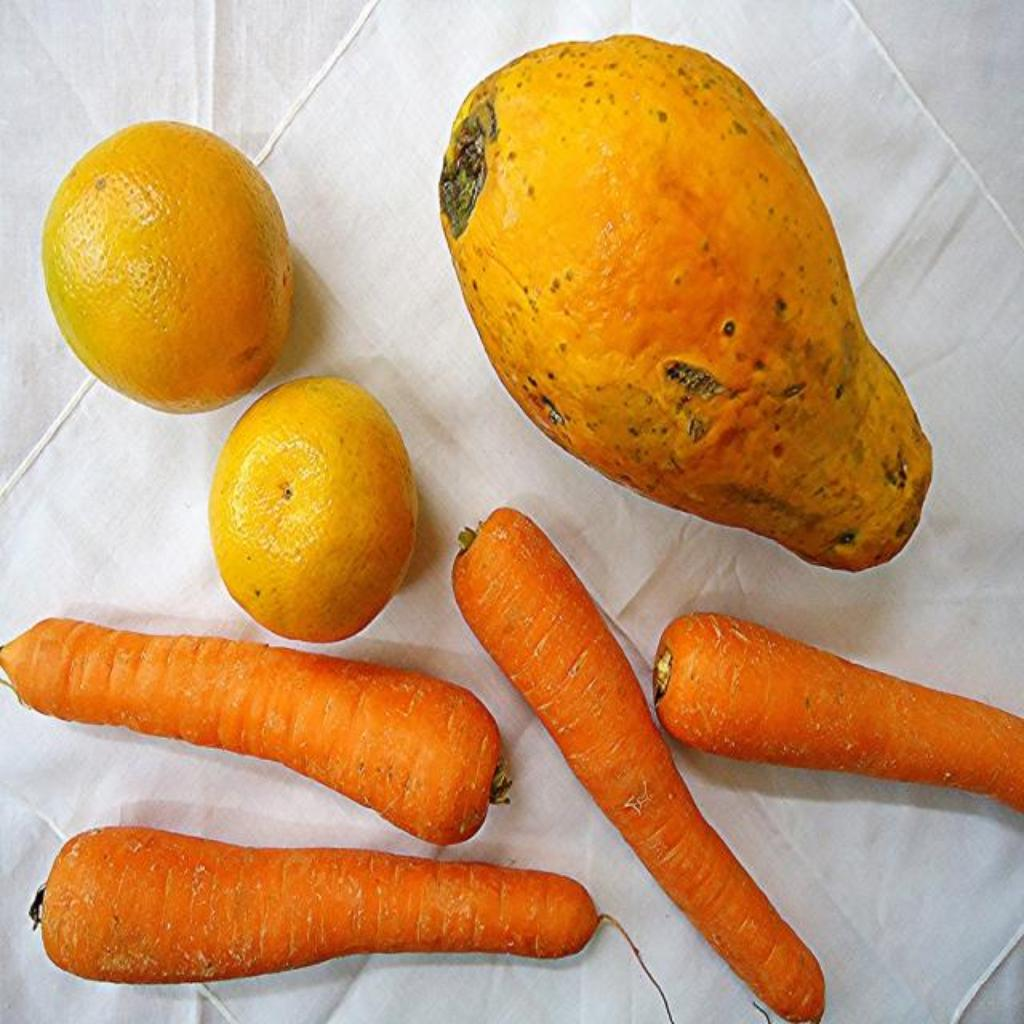carrot: (454, 508, 824, 1021), (0, 618, 500, 843), (40, 828, 600, 983), (656, 616, 1024, 811)
